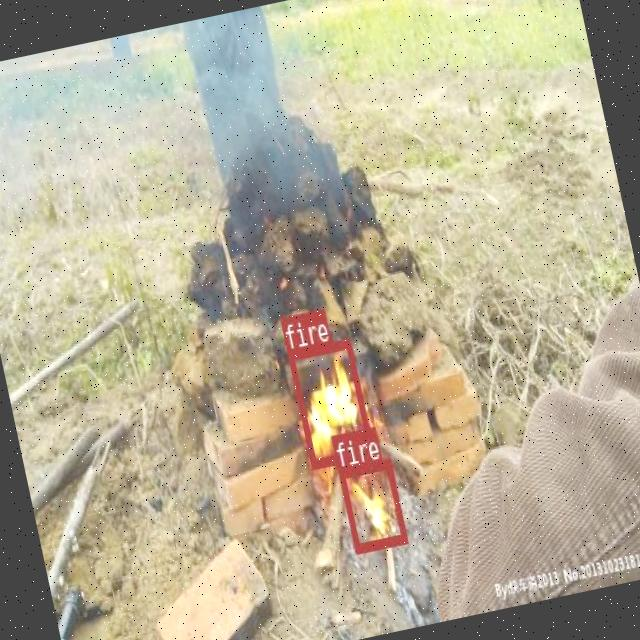fire: (286, 338, 372, 467), (336, 458, 406, 551)
